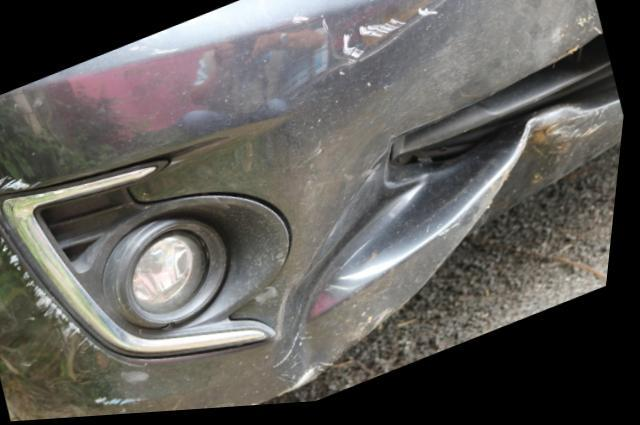dent: (290, 124, 534, 385)
scratch: (0, 217, 103, 360), (292, 11, 439, 74)
